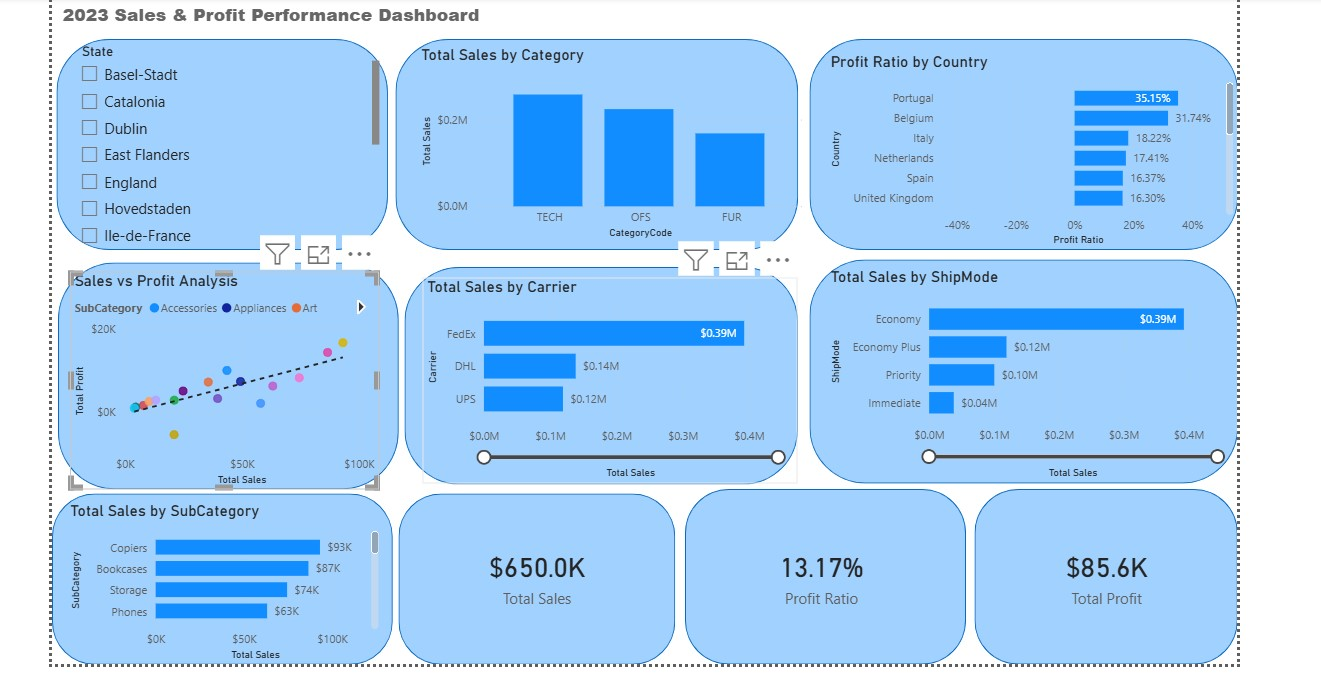

The page's visual inventory and layout, read from the dashboard file:
{"tool":"powerbi","page":{"name":"Page 1","canvas":[1280,720],"ordinal":0},"visuals":[{"type":"shape","box":[5,45,357.7,227.8],"z":0,"group":"g1"},{"type":"group","id":"g1","title":"Background","box":[0,45,1280,675.5],"z":0},{"type":"shape","box":[370.7,45,434.7,227.8],"z":1000,"group":"g1"},{"type":"slicer","fields":{"Values":["Store Info.State"]},"box":[19,45,338.7,227.8],"z":1000},{"type":"shape","box":[817.4,45,462.6,227.8],"z":2000,"group":"g1"},{"type":"clusteredColumnChart","title":"Total Sales by Category","fields":{"Category":["Products.CategoryCode"],"Y":["2023_Sales.Total Sales"]},"box":[393.7,52,423.7,212.8],"z":2000},{"type":"clusteredBarChart","fields":{"Category":["Store Info.Country"],"Y":["2023_Sales.Profit Ratio"]},"box":[835.3,60,444.7,212.8],"z":3000},{"type":"shape","box":[7,285.8,367.7,244.8],"z":3000,"group":"g1"},{"type":"shape","box":[380.7,291.8,424.7,234.8],"z":4000,"group":"g1"},{"type":"scatterChart","title":"Sales vs Profit Analysis","fields":{"X":["2023_Sales.Total Sales"],"Y":["2023_Sales.Total Profit"],"Series":["Products.SubCategory"]},"box":[19,295.8,333.7,234.8],"z":4000},{"type":"shape","box":[817.4,282.8,462.6,241.8],"z":5000,"group":"g1"},{"type":"clusteredBarChart","fields":{"Category":["Shipping.Carrier"],"Y":["2023_Sales.Total Sales"]},"box":[399.7,302.8,405.7,221.8],"z":5000},{"type":"clusteredBarChart","fields":{"Category":["Shipping.ShipMode"],"Y":["2023_Sales.Total Sales"]},"box":[835.3,291.8,444.7,232.8],"z":6000},{"type":"shape","box":[0,535.6,367.7,184.9],"z":6000,"group":"g1"},{"type":"shape","box":[374.7,535.6,298.8,184.9],"z":7000,"group":"g1"},{"type":"clusteredBarChart","fields":{"Category":["Products.SubCategory"],"Y":["2023_Sales.Total Sales"]},"box":[14,543.6,342.7,175.9],"z":7000},{"type":"shape","box":[683.4,531.1,303.4,189.5],"z":8000,"group":"g1"},{"type":"card","fields":{"Values":["2023_Sales.Total Sales"]},"box":[393.7,535.6,259.8,176.9],"z":8000},{"type":"shape","box":[995.8,531.1,284.2,189.5],"z":9000,"group":"g1"},{"type":"card","fields":{"Values":["2023_Sales.Total Profit"]},"box":[1008.2,551.6,258.8,144.9],"z":9000},{"type":"card","fields":{"Values":["2023_Sales.Profit Ratio"]},"box":[673.3,543.6,313.5,161.3],"z":10000},{"type":"textbox","box":[7,0,545.6,37],"z":10001}]}

Visuals, with their boxes in screenshot pixels (x1, y1, x2, y2):
shape: <region>49, 42, 380, 252</region>
"Background" group: <region>45, 42, 1227, 665</region>
shape: <region>387, 42, 789, 252</region>
slicer - Store Info.State: <region>62, 42, 375, 252</region>
shape: <region>800, 42, 1227, 252</region>
"Total Sales by Category" clusteredColumnChart: <region>408, 48, 800, 245</region>
clusteredBarChart - Store Info.Country x 2023_Sales.Profit Ratio: <region>816, 55, 1227, 252</region>
shape: <region>51, 264, 391, 490</region>
shape: <region>396, 269, 789, 486</region>
"Sales vs Profit Analysis" scatterChart: <region>62, 273, 370, 490</region>
shape: <region>800, 261, 1227, 484</region>
clusteredBarChart - Shipping.Carrier x 2023_Sales.Total Sales: <region>414, 280, 789, 484</region>
clusteredBarChart - Shipping.ShipMode x 2023_Sales.Total Sales: <region>816, 269, 1227, 484</region>
shape: <region>45, 495, 384, 665</region>
shape: <region>391, 495, 667, 665</region>
clusteredBarChart - Products.SubCategory x 2023_Sales.Total Sales: <region>58, 502, 374, 664</region>
shape: <region>676, 490, 956, 665</region>
card - 2023_Sales.Total Sales: <region>408, 495, 648, 658</region>
shape: <region>965, 490, 1227, 665</region>
card - 2023_Sales.Total Profit: <region>976, 509, 1215, 643</region>
card - 2023_Sales.Profit Ratio: <region>667, 502, 956, 651</region>
textbox: <region>51, 0, 555, 34</region>
